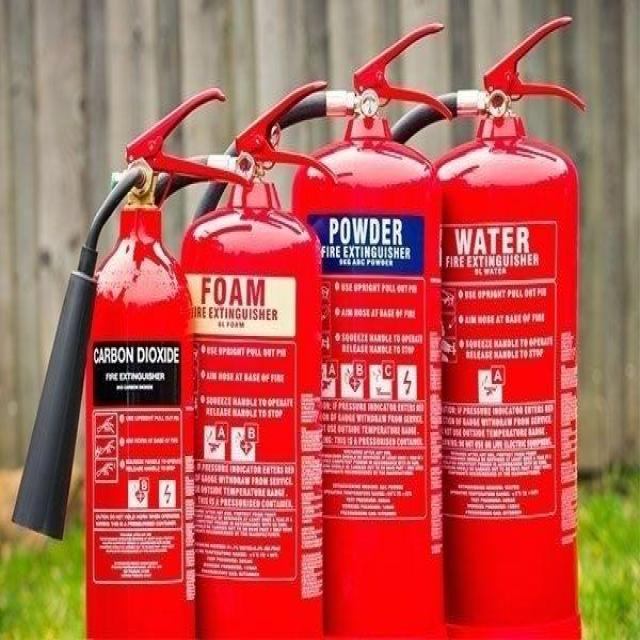fire_extinguisher: (365, 8, 588, 638), (7, 84, 254, 638), (242, 16, 452, 638), (121, 71, 343, 638)
